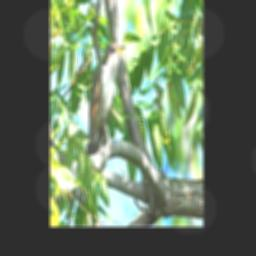Cuckoo: (86, 40, 125, 155)
